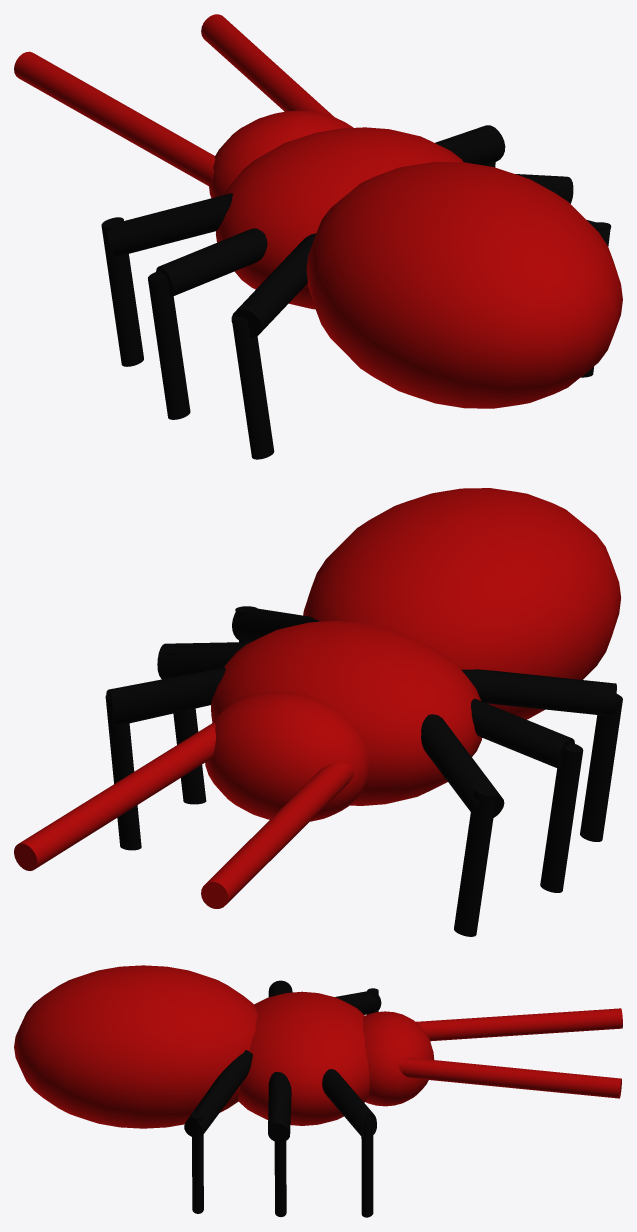
Rendered from beetle.fbx.
The picture shows the model from 3 angles, top to bottom: view 1: azimuth 30°, elevation 25°; view 2: azimuth 150°, elevation 25°; view 3: azimuth 270°, elevation 25°; orthographic projection. The views are drawn at different scales.
Parts seen in each view (by area): view 1: pSphere1, pSphere2, pCylinder2, pSphere3, pCylinder3, pasted__pCylinder1, pasted__pCylinder3, pasted__pCylinder4, pasted__pCylinder6, pasted__pCylinder5, pasted__pCylinder2, pasted__pCylinder8 (+1 smaller); view 2: pSphere1, pSphere2, pSphere3, pCylinder3, pCylinder2, pasted__pCylinder5, pasted__pCylinder8, pasted__pCylinder2, pasted__pCylinder4, pasted__pCylinder3, pasted__pCylinder1, pasted__pCylinder6 (+4 smaller); view 3: pSphere1, pSphere2, pSphere3, pCylinder3, pCylinder2, pasted__pCylinder9, pasted__pCylinder8, pasted__pCylinder7, pasted__pCylinder10, pasted__pCylinder12, pasted__pCylinder11, pasted__pCylinder1.
Part boxes in pixels (x1,y1,x2,y2): pSphere1: (306, 162, 622, 408); pSphere2: (216, 127, 463, 309); pCylinder2: (14, 51, 215, 185); pSphere3: (209, 110, 353, 198); pCylinder3: (201, 14, 333, 116); pasted__pCylinder1: (107, 193, 232, 256); pasted__pCylinder3: (156, 228, 267, 297); pasted__pCylinder4: (148, 271, 190, 419); pasted__pCylinder6: (231, 316, 274, 459); pasted__pCylinder5: (231, 233, 315, 337); pasted__pCylinder2: (101, 217, 143, 366); pasted__pCylinder8: (435, 125, 505, 165); pSphere1: (303, 488, 620, 719); pSphere2: (211, 620, 481, 805); pSphere3: (205, 691, 370, 821); pCylinder3: (14, 722, 215, 870); pCylinder2: (201, 762, 353, 908); pasted__pCylinder5: (461, 669, 616, 715); pasted__pCylinder8: (106, 667, 225, 726); pasted__pCylinder2: (454, 786, 496, 936); pasted__pCylinder4: (540, 743, 583, 892); pasted__pCylinder3: (471, 698, 574, 769); pasted__pCylinder1: (421, 714, 504, 817); pasted__pCylinder6: (580, 694, 622, 841); pSphere1: (14, 965, 257, 1128); pSphere2: (238, 991, 369, 1125); pSphere3: (363, 1011, 434, 1106); pCylinder3: (398, 1057, 621, 1098); pCylinder2: (416, 1008, 622, 1041); pasted__pCylinder9: (184, 1050, 252, 1136); pasted__pCylinder8: (322, 1069, 376, 1137); pasted__pCylinder7: (268, 1071, 291, 1142); pasted__pCylinder10: (361, 1117, 373, 1217); pasted__pCylinder12: (192, 1110, 203, 1213); pasted__pCylinder11: (274, 1116, 286, 1216); pasted__pCylinder1: (335, 991, 381, 1014).
Size of the model in its own units: 2.62 by 1.53 by 4.72.
